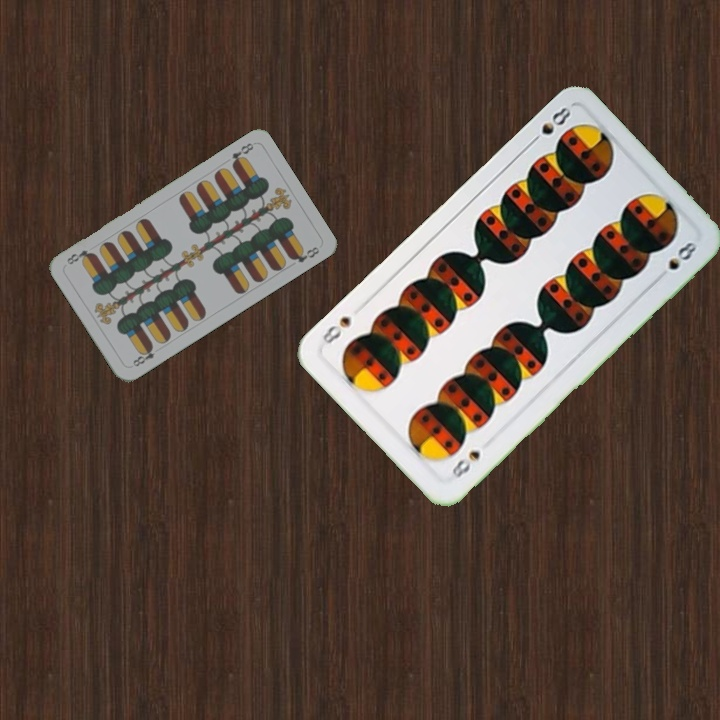E8: (127, 341, 157, 370), (227, 139, 256, 169)
S8: (525, 100, 574, 148), (447, 446, 483, 481)
